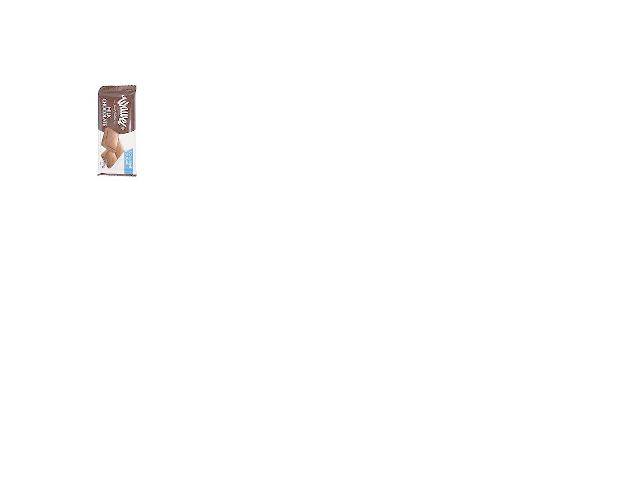chocolate: (95, 86, 138, 177)
